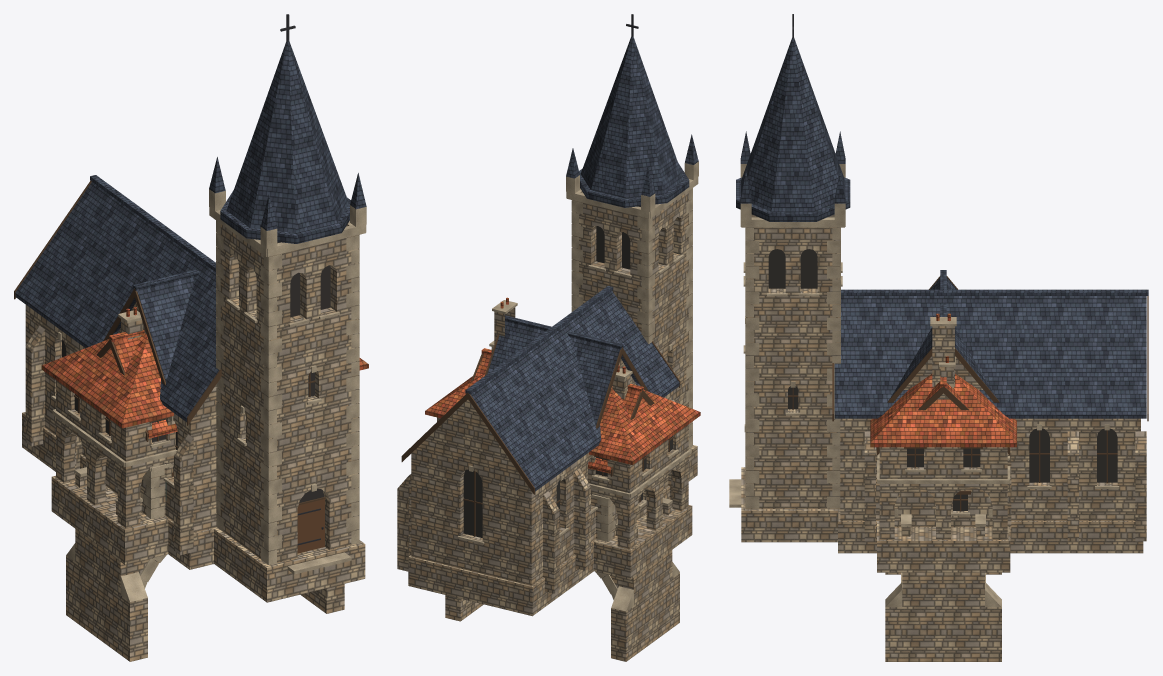
File: town-kit.glb
3 views of the same model, side by side, from view 1: azimuth 30°, elevation 25°; view 2: azimuth 150°, elevation 25°; view 3: azimuth 270°, elevation 25° (orthographic). The views are drawn at different scales.
Visible parts, largest first — view 1: church, market, bridge, house, cottage_l; view 2: church, market, bridge, house, cottage_l; view 3: church, market, bridge, house, cottage_l.
Boxes of the visible parts, bbox=[...] form: church: bbox=[14, 14, 366, 602]; market: bbox=[41, 333, 368, 564]; bridge: bbox=[66, 467, 344, 661]; house: bbox=[104, 269, 199, 385]; cottage_l: bbox=[86, 307, 177, 519]; church: bbox=[397, 14, 698, 616]; market: bbox=[425, 373, 700, 579]; bridge: bbox=[445, 498, 679, 661]; house: bbox=[485, 297, 648, 428]; cottage_l: bbox=[471, 340, 663, 541]; church: bbox=[729, 14, 1148, 553]; market: bbox=[870, 374, 1016, 572]; bridge: bbox=[885, 514, 1001, 661]; house: bbox=[887, 270, 999, 402]; cottage_l: bbox=[877, 356, 1010, 527].
Size of the model in its own units: 13.8 by 35.2 by 22.31.
10 materials, 4 textured.
